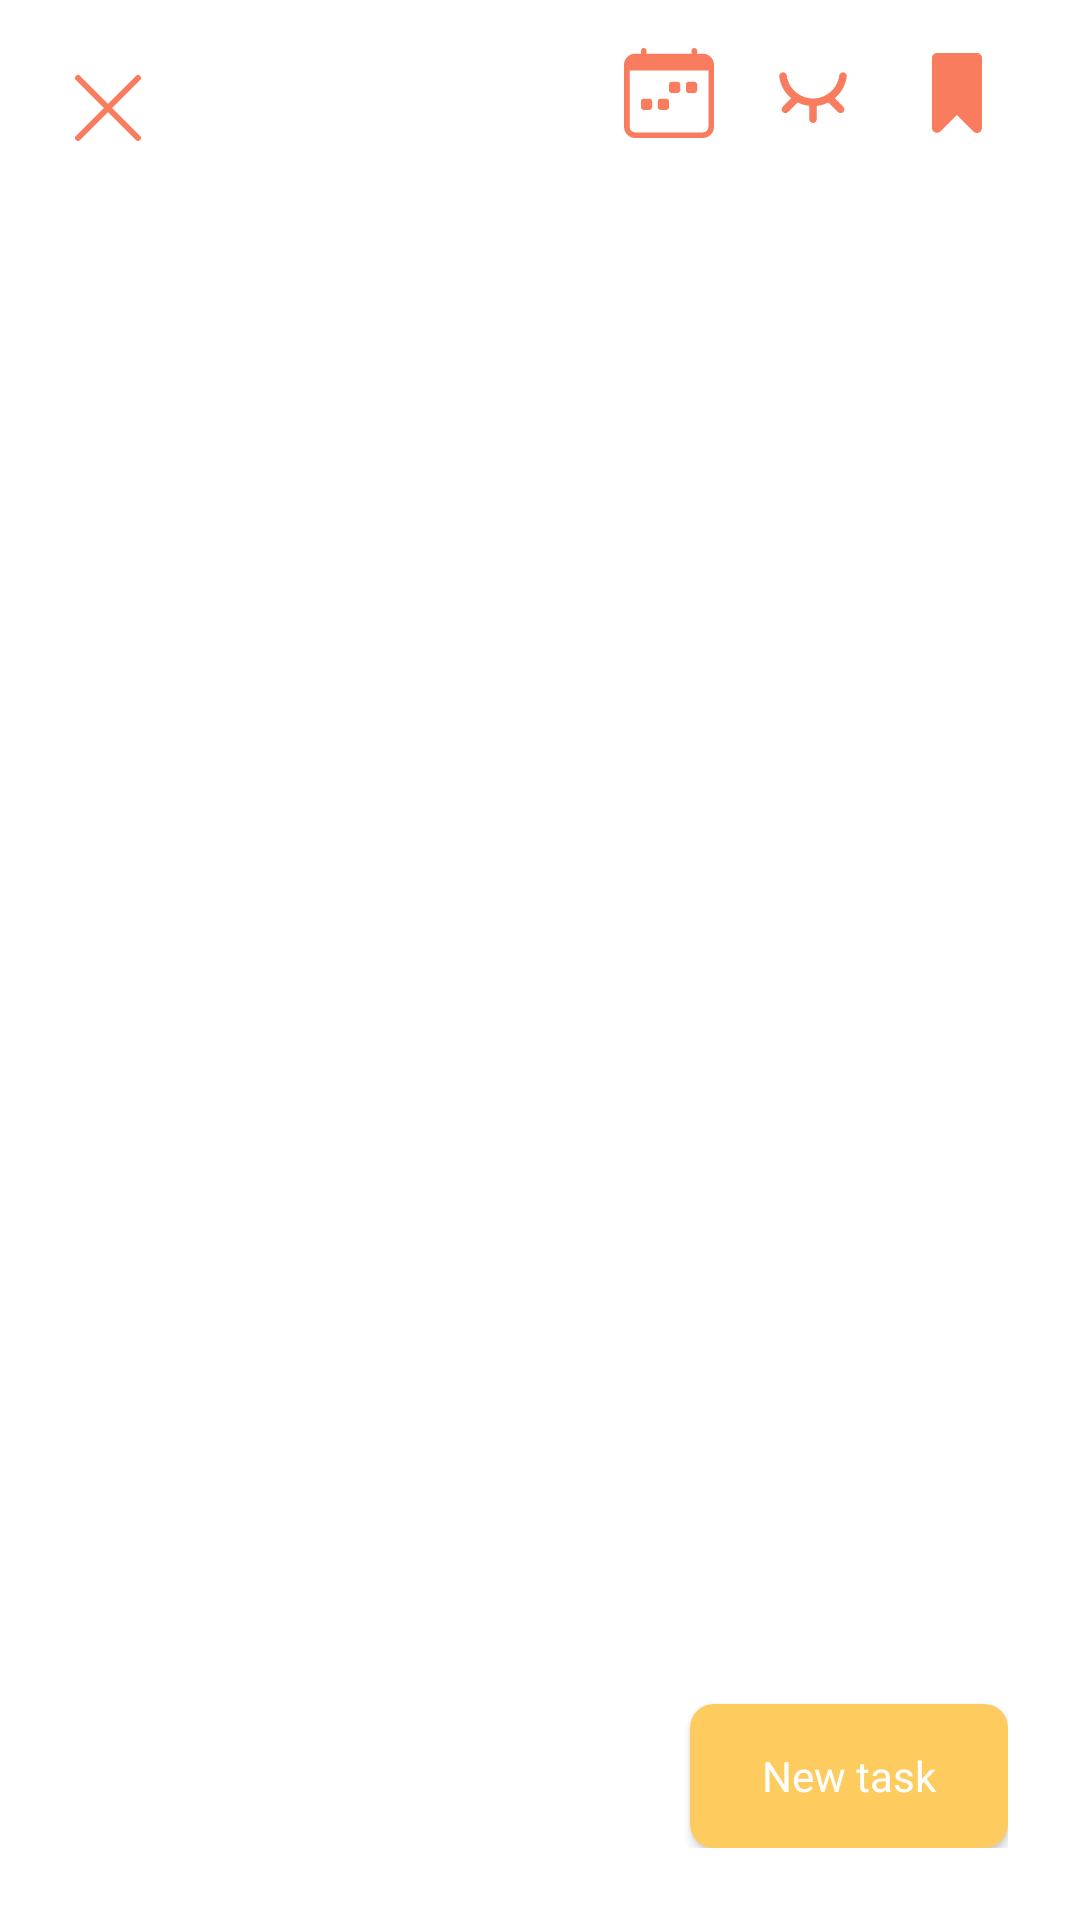

Locate icon controls on the screen. Image size 1080 × 1920, boxes as (x1, y1, x2, y2).
bi calendar week: (624, 48, 714, 138)
clarity bookmark: (932, 53, 982, 133)
close: (75, 75, 141, 141)
eva eye off: (779, 72, 847, 123)
